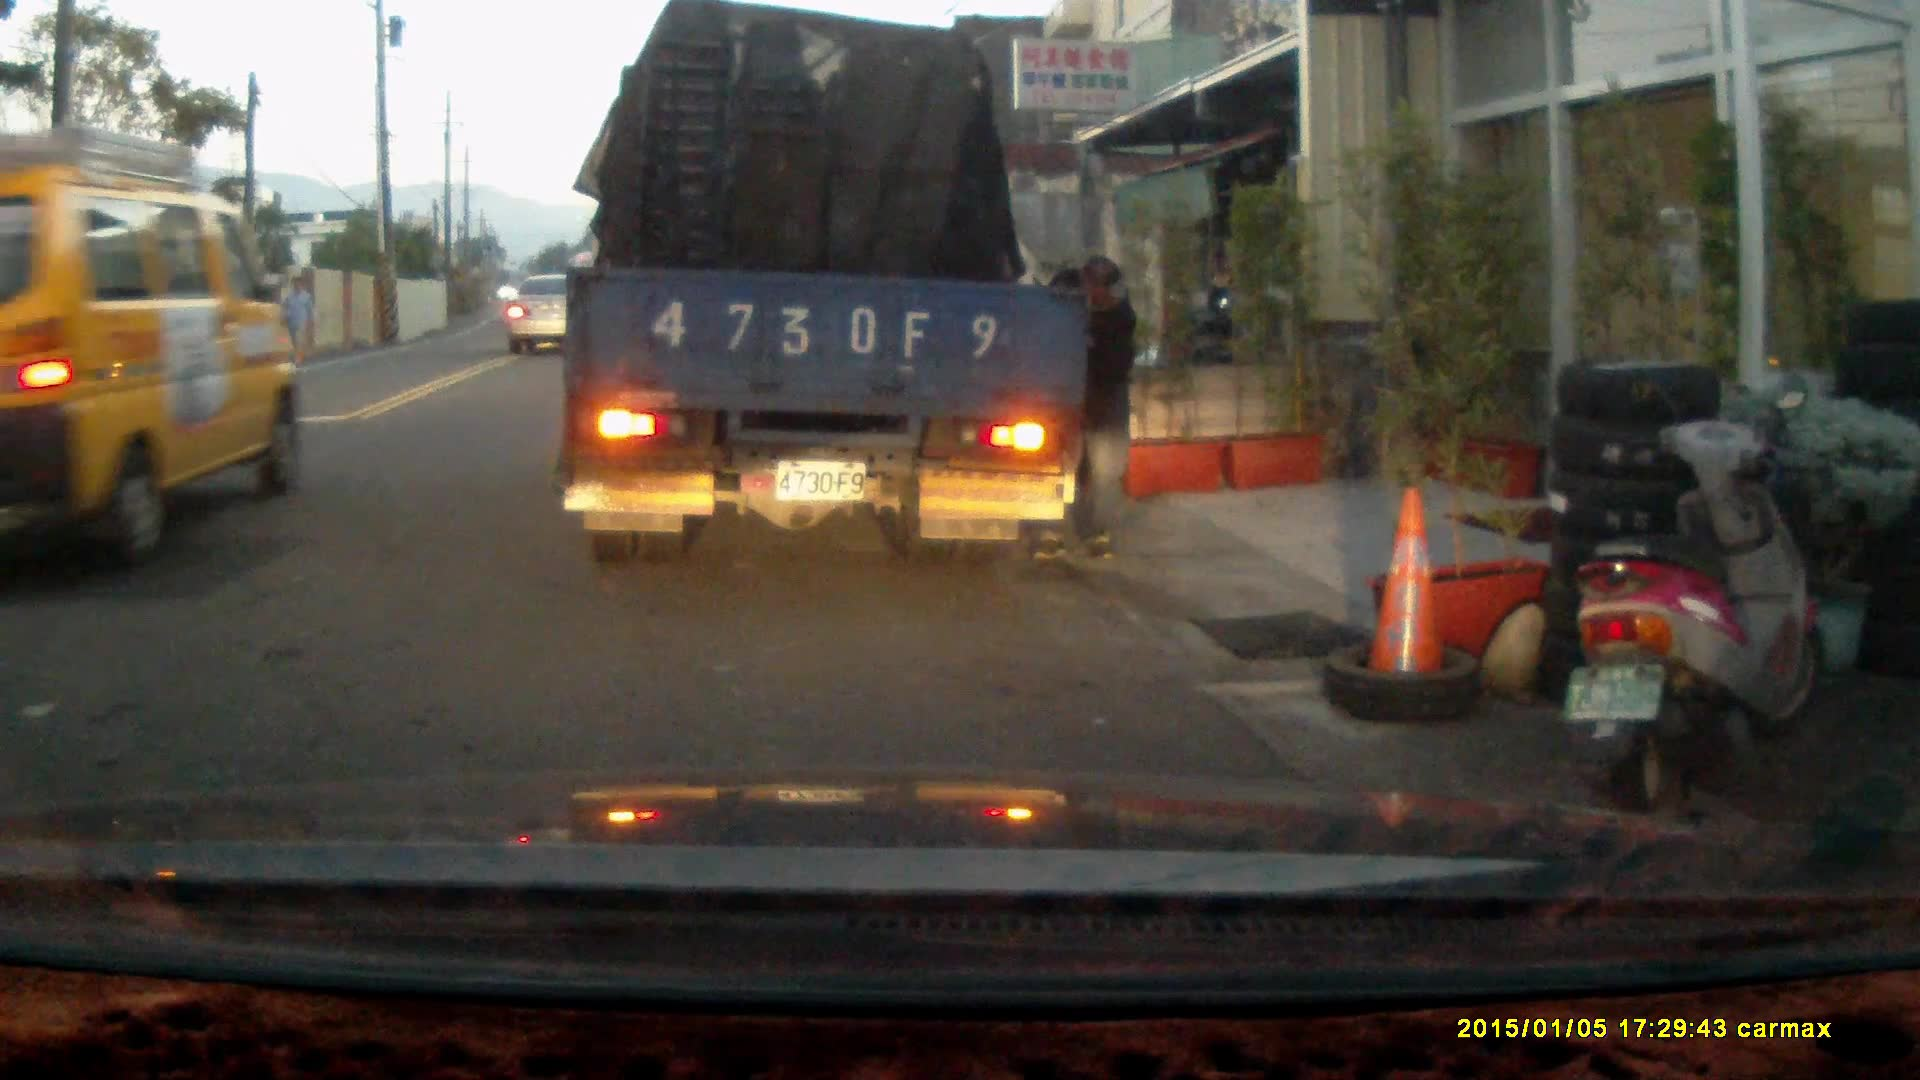pedestrian: (1015, 248, 1135, 562), (276, 274, 317, 369)
vehicle: (559, 25, 1074, 557), (1, 125, 311, 593), (511, 270, 586, 350)
